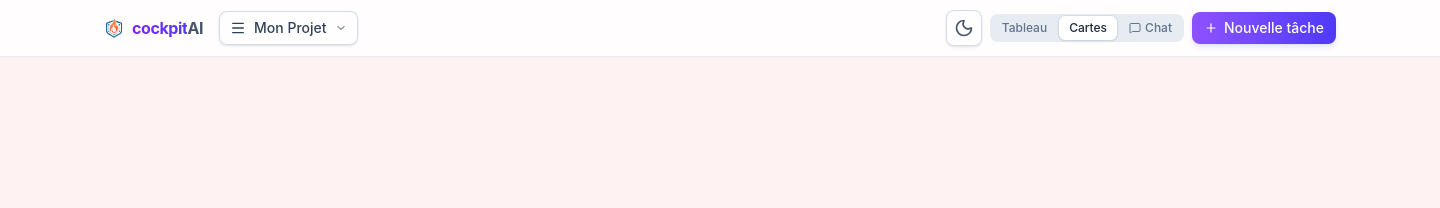
Test: AppHeader › closes burger menu after clicking "Nouveau projet"
Click the button "Mon Projet" at (288, 28), box [219,11,358,45]
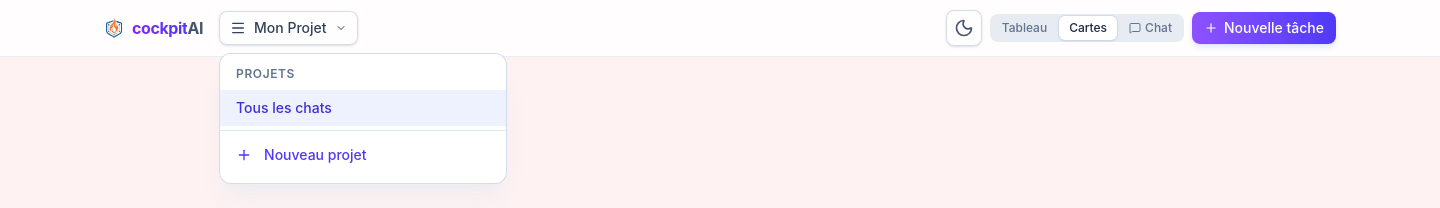
Expected: the button "Nouveau projet" is shown
Click the button "Nouveau projet" at (363, 155), box [220,135,506,175]
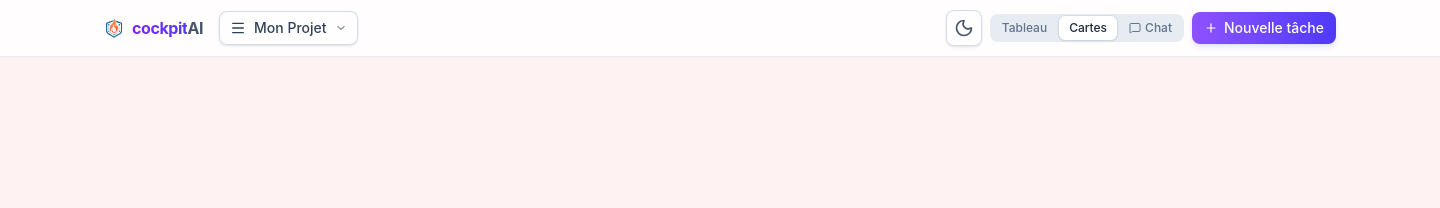
Expected: the button "Nouveau projet" is gone
